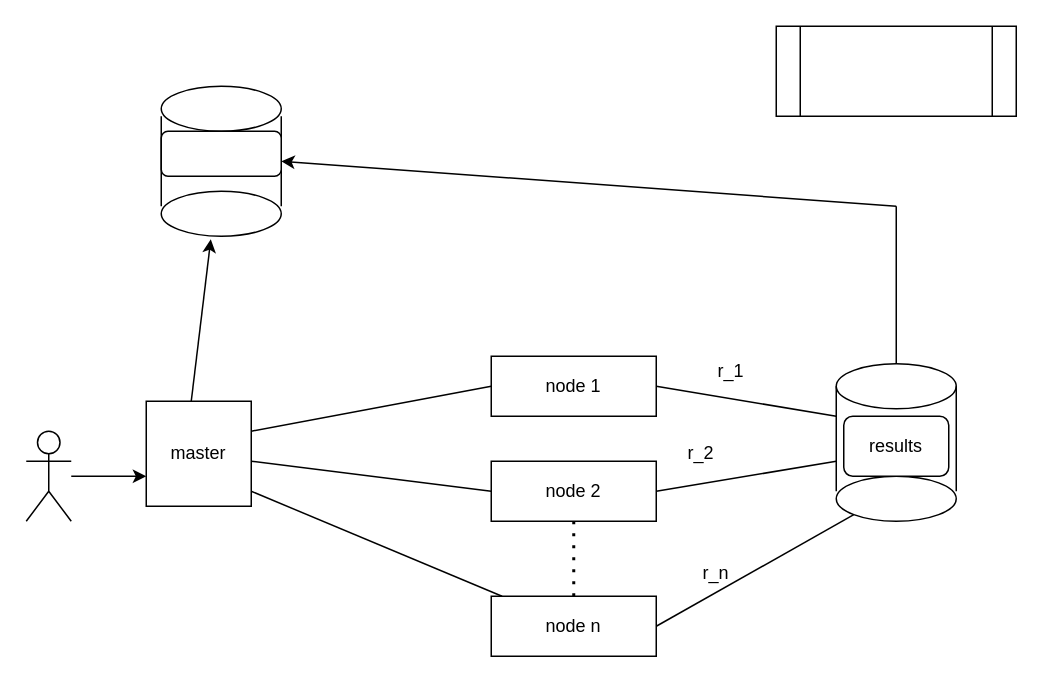
The diagram is 1043 pixels wide and 683 high, and some of its shapes have lost their labels. The box of each missing label's shape, as (x1, y1, x2, y2) in pixels:
1. Spin up 2. run experiment 3. clean up: (775, 25, 1016, 116)
r1-n: (160, 130, 281, 176)
User: (25, 430, 71, 521)
